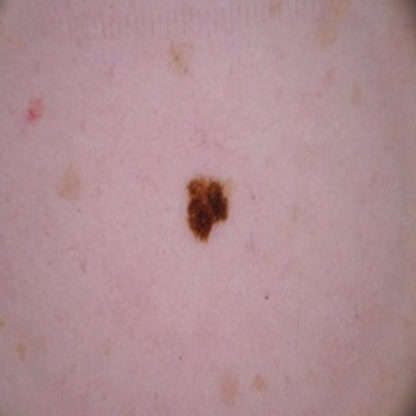malignant: (184, 178, 236, 240)
